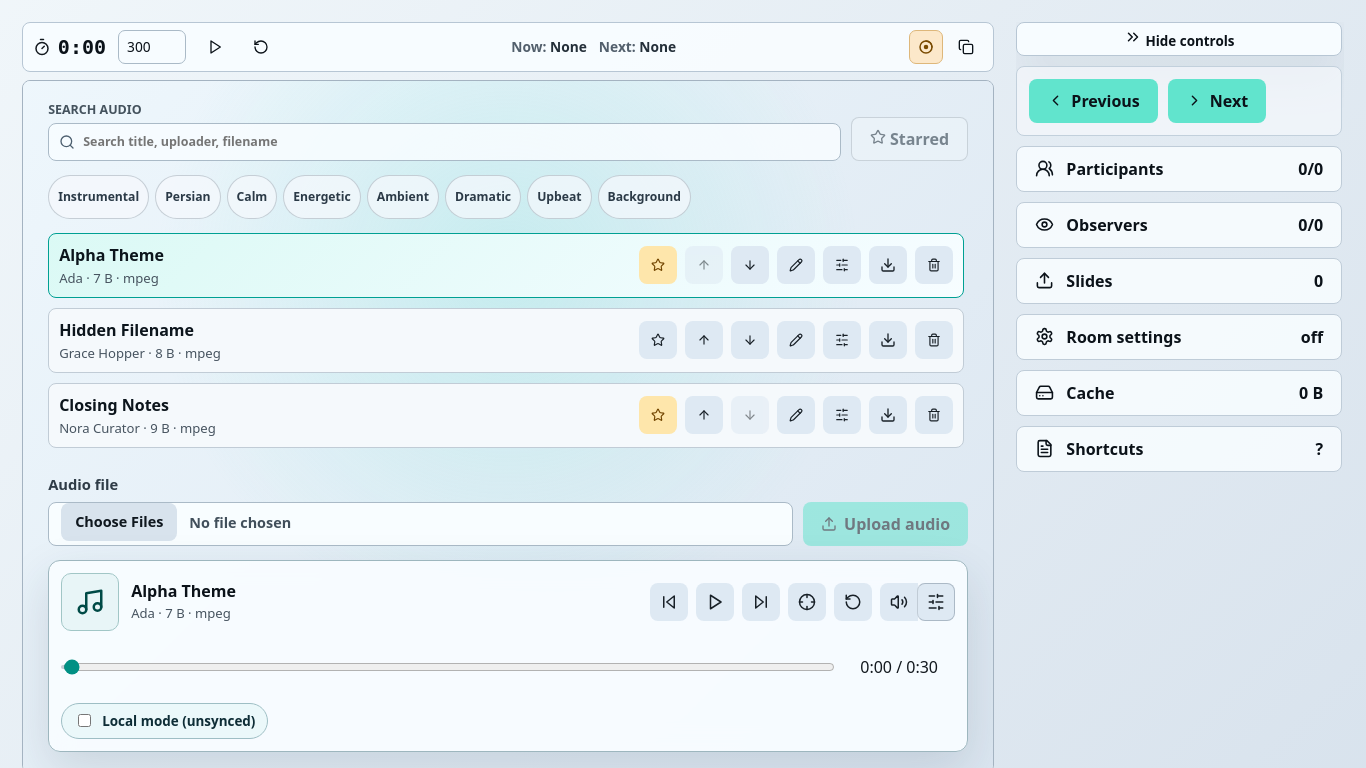
it: App landing polish › filters audio tracks by search text and combines search with starred
The width and height of the screenshot is (1366, 768).
Expected: the element with class "audio-track-list" is shown, [48,233,968,460]
In the field named "Search audio tracks": (444,142) [48,123,841,161], type "secret-filename"
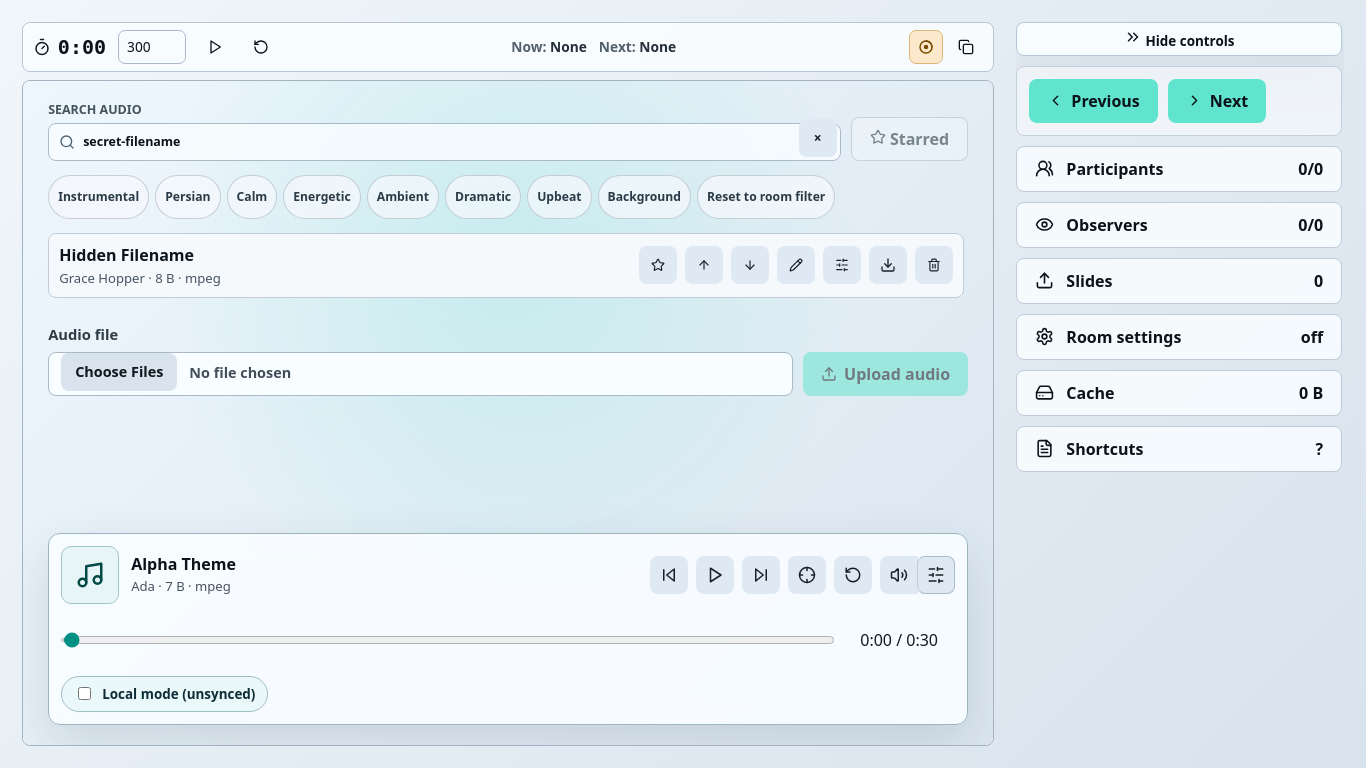
Expected: the text "Hidden Filename" is shown, [59,244,194,266]
Expected: the button "Closing Notes" is gone
Replace the text in the field named "Search audio tracks" with "nora curator": (444,142) [48,123,841,161]
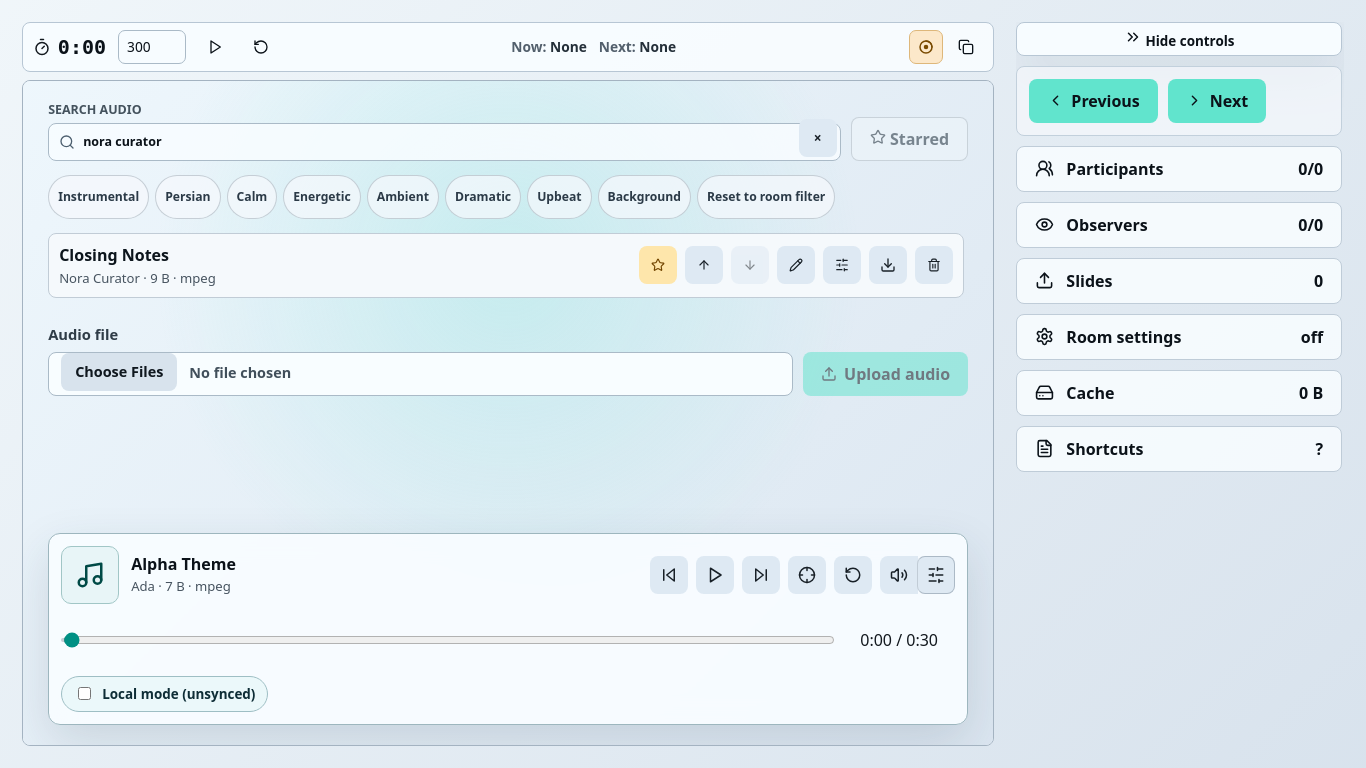
Expected: the text "Closing Notes" is shown, [59,244,169,266]
Expected: the button "Hidden Filename" is gone
Click the button "Starred": (910,139) [851,117,968,161]
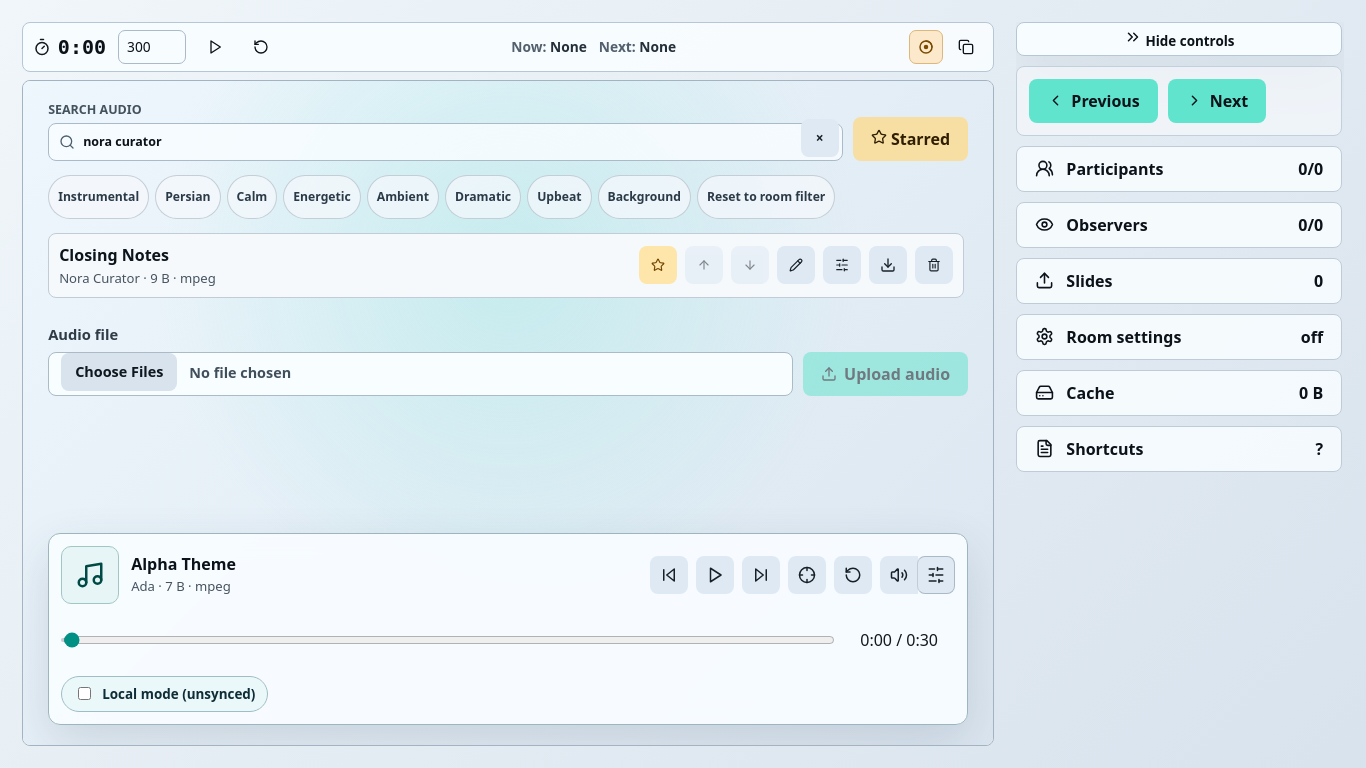
Expected: the button "Hidden Filename" is not shown
Expected: the text "Closing Notes" is shown, [59,244,169,266]
Replace the text in the field named "Search audio tracks" with "grace hopper": (446,142) [48,123,843,161]
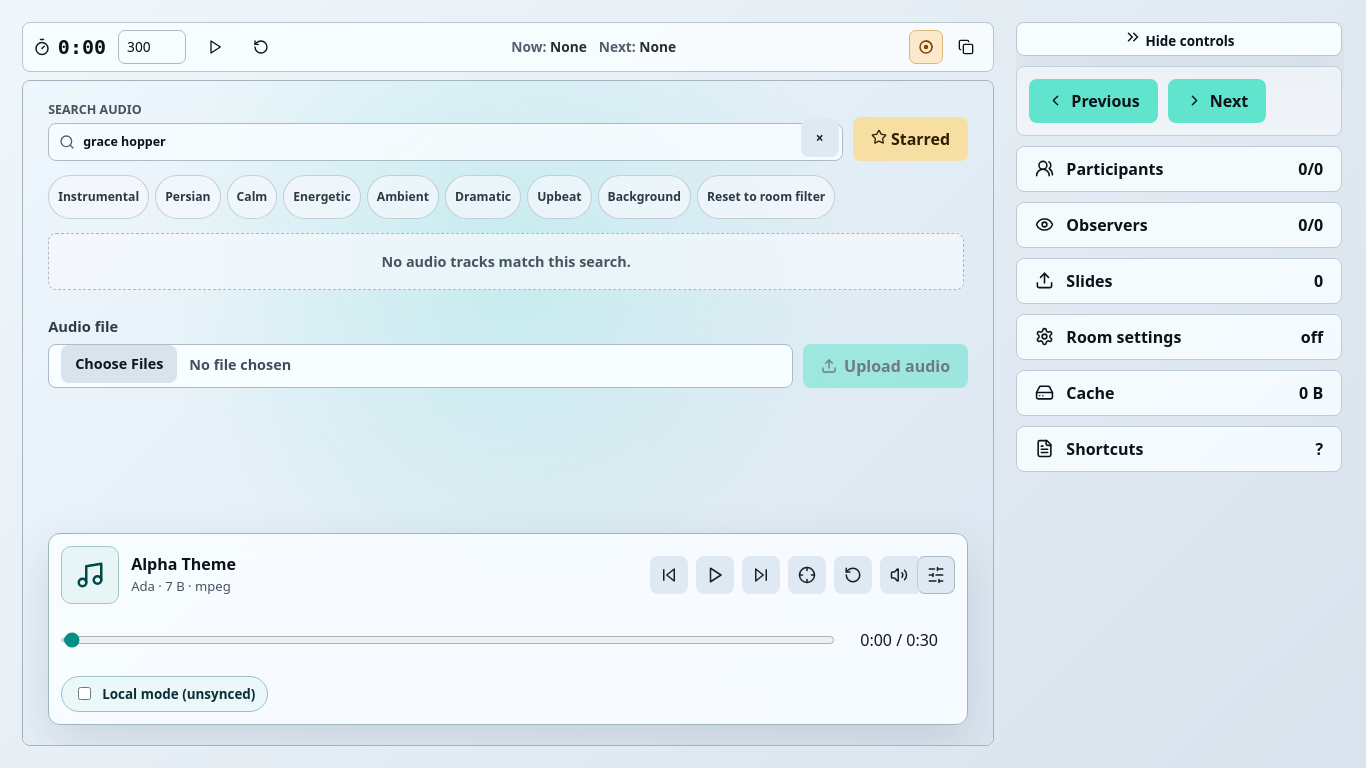
Expected: the button "Hidden Filename" is not shown
Expected: the text "No audio tracks match this search." is shown, [48,233,964,290]
Click the button named "Clear audio search": (820,138) [801,119,839,157]
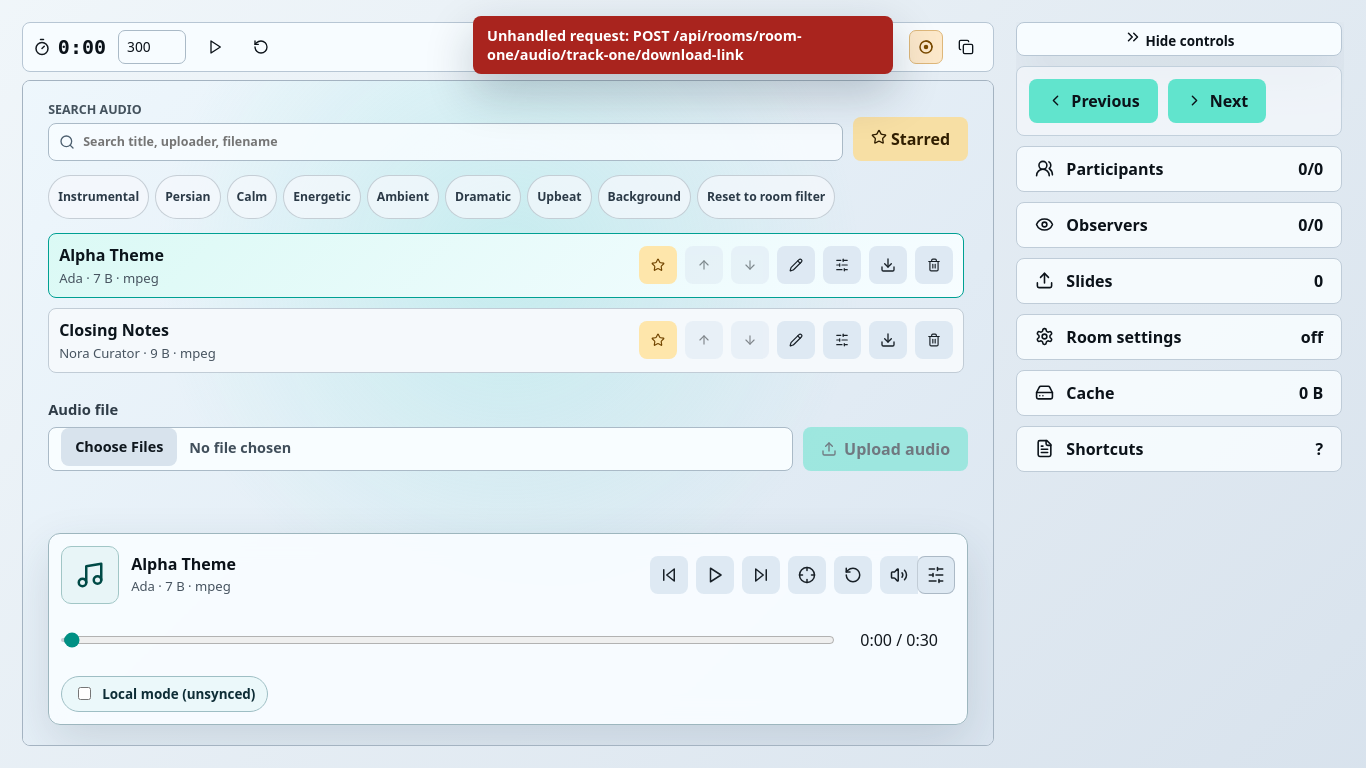
Expected: the field named "Search audio tracks" is empty, [48,123,843,161]
Expected: the text "Alpha Theme" below "Search audio" is shown, [59,244,164,266]
Expected: the text "Closing Notes" is shown, [59,319,169,341]
